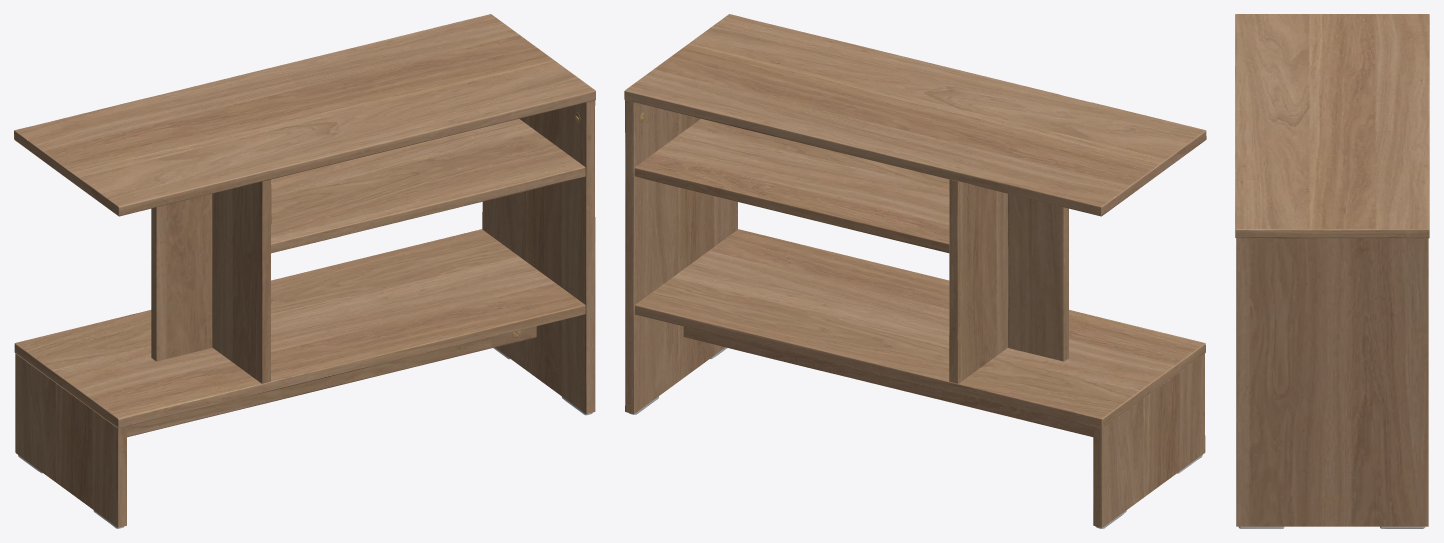
The picture shows the model from 3 angles, left to right: view 1: azimuth 30°, elevation 25°; view 2: azimuth 150°, elevation 25°; view 3: azimuth 270°, elevation 25°; orthographic projection. The views are drawn at different scales.
Parts seen in each view (by area): view 1: model; view 2: model; view 3: model.
Part boxes in pixels (bbox=[...]): model: bbox=[14, 14, 595, 528]; model: bbox=[624, 14, 1206, 528]; model: bbox=[1235, 14, 1429, 528].
Bounding box in the file's own units: 0.805 × 0.523 × 0.307.
1 material, 1 textured.
